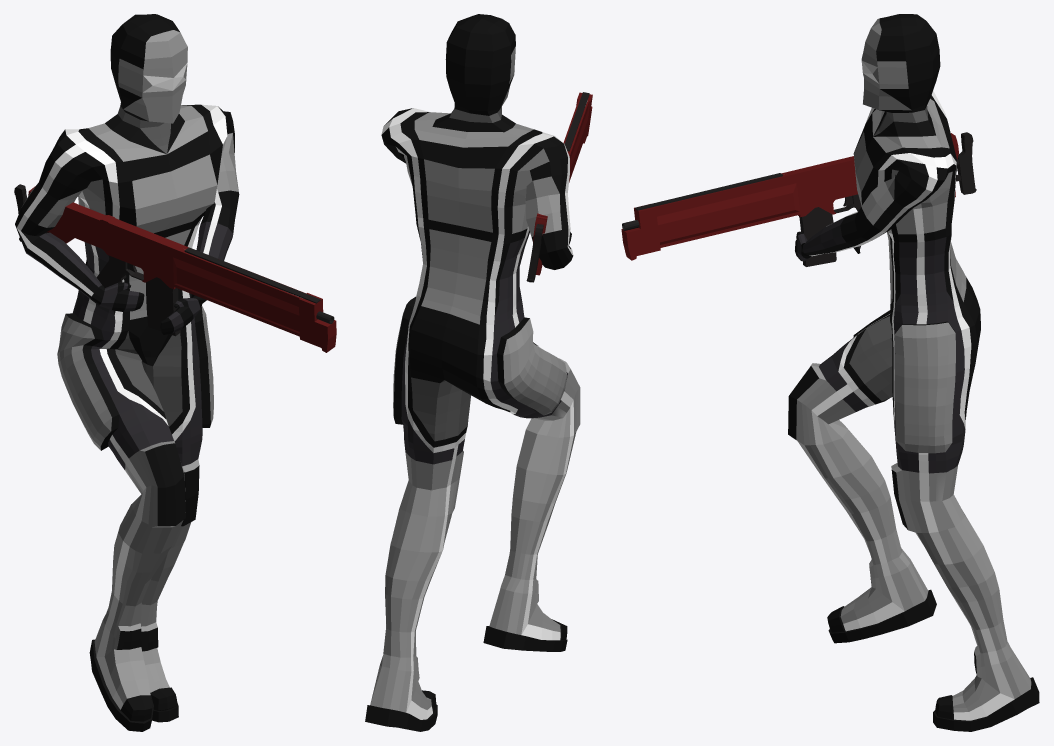
Rendered from TKR2.obj.
3 views of the same model, side by side, from view 1: azimuth 30°, elevation 25°; view 2: azimuth 150°, elevation 25°; view 3: azimuth 270°, elevation 25° (orthographic). The views are drawn at different scales.
Parts seen in each view (by area): view 1: metarig_object_metarig_mesh, Cube.001; view 2: metarig_object_metarig_mesh, Cube.001; view 3: metarig_object_metarig_mesh, Cube.001.
Boxes of the visible parts, x1,y1,x2,y2 form: metarig_object_metarig_mesh: (15, 14, 239, 731); Cube.001: (14, 184, 336, 352); metarig_object_metarig_mesh: (365, 14, 580, 731); Cube.001: (526, 92, 592, 282); metarig_object_metarig_mesh: (788, 14, 1039, 731); Cube.001: (621, 132, 976, 266).
Bounding box in the file's own units: 0.5109 × 1.75 × 0.9636.
2 materials, 2 textured.
